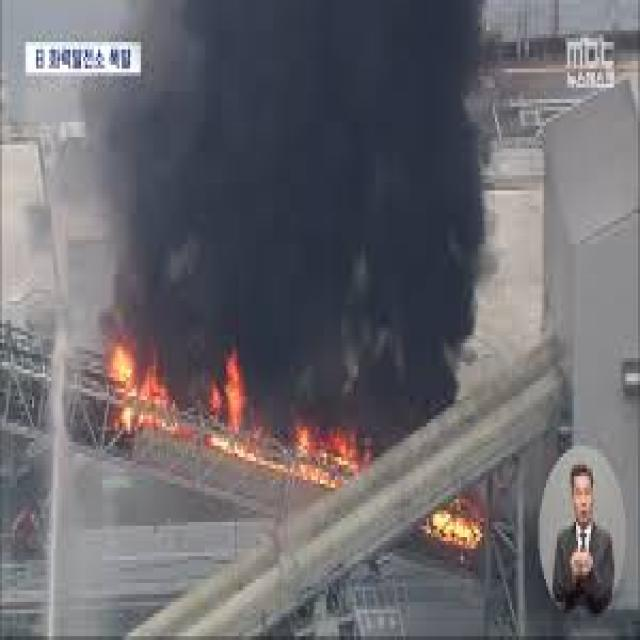explosion: (74, 0, 490, 583)
